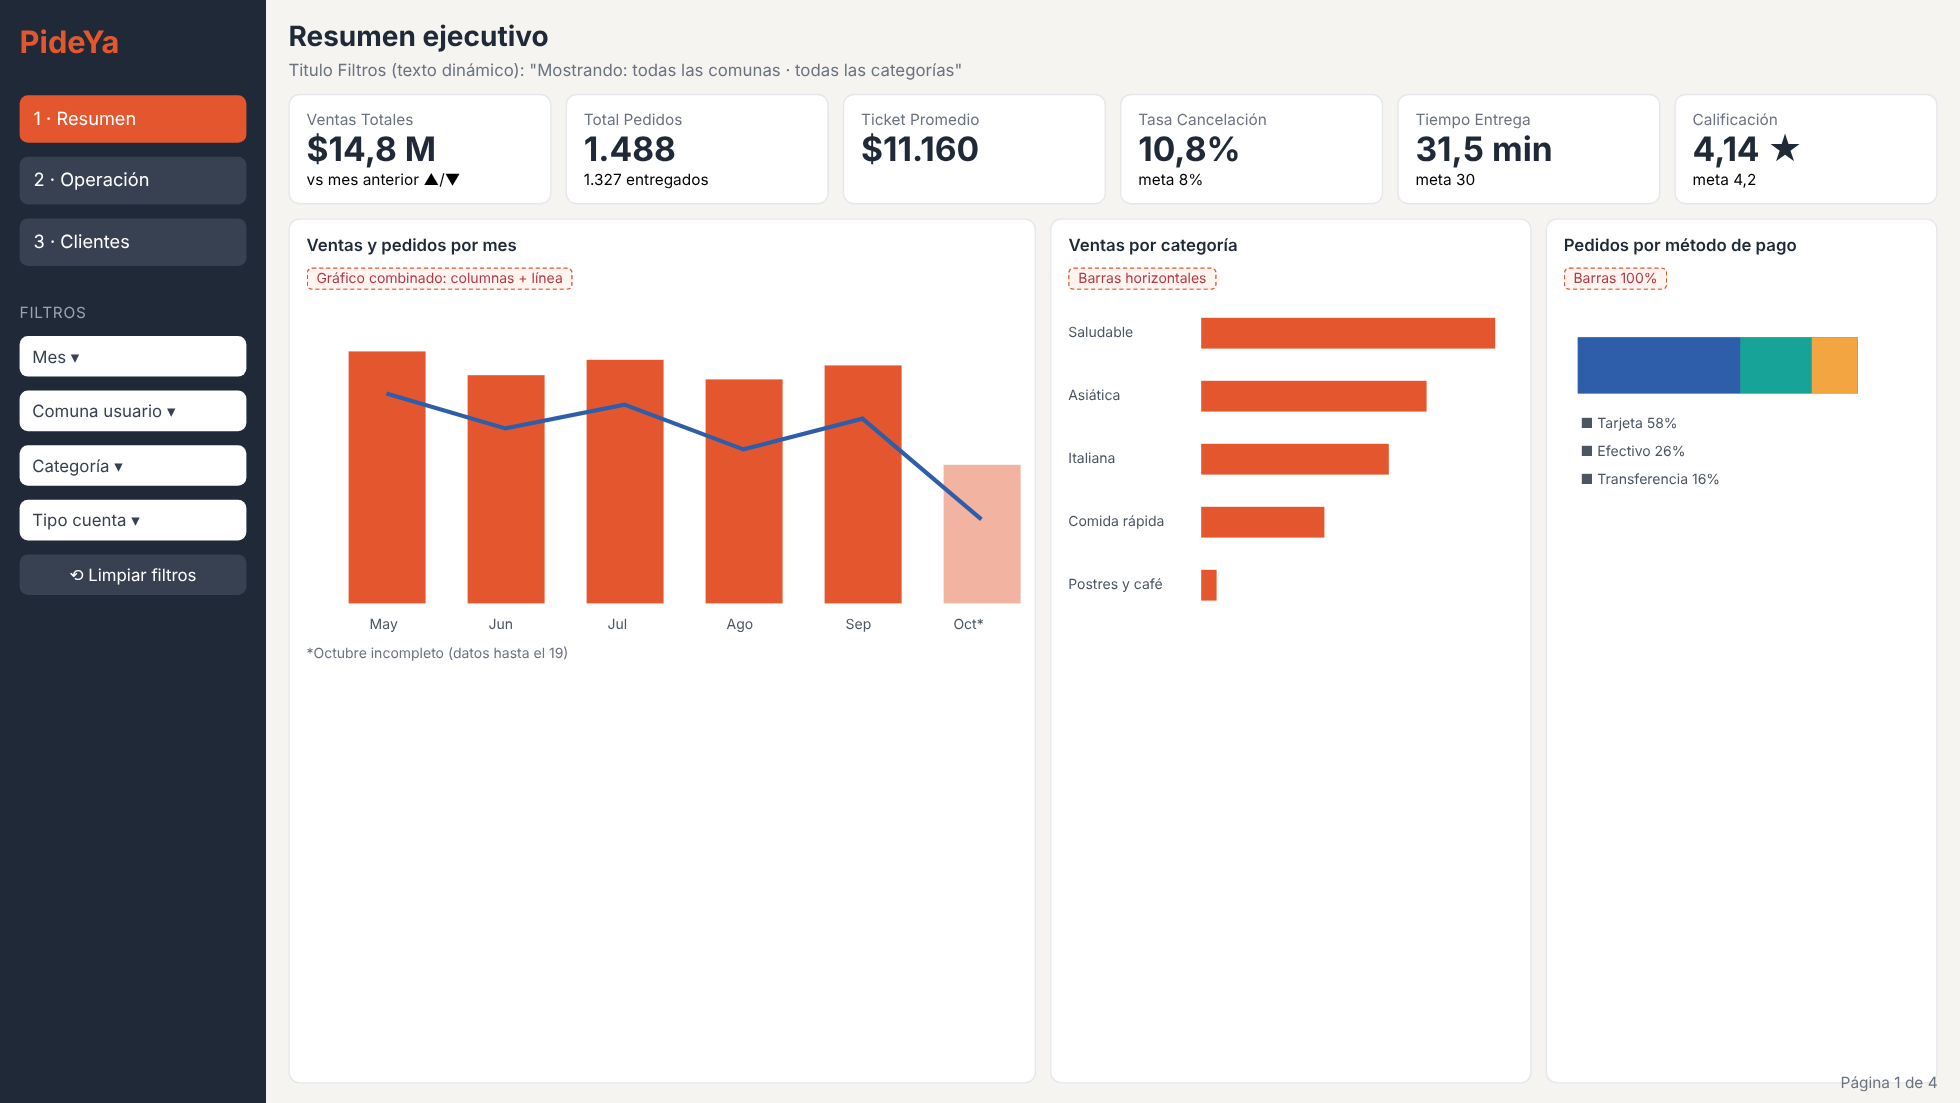

This screenshot's page, from the dashboard's own definition file:
{"tool":"powerbi","page":{"name":"Resumen","canvas":[1920,1080],"ordinal":0},"visuals":[{"type":"shape","box":[0,0,245.1,1079.6],"z":0},{"type":"cardVisual","fields":{"Data":["_Medidas.Ventas Totales"]},"box":[250.9,125.5,255,155],"z":1000},{"type":"cardVisual","fields":{"Data":["_Medidas.KPI Pedidos"]},"box":[530.5,125.5,255,155],"z":2000},{"type":"cardVisual","fields":{"Data":["_Medidas.Ticket Promedio"]},"box":[810,125.5,255,155],"z":3000},{"type":"cardVisual","fields":{"Data":["_Medidas.Tasa Cancelacion"]},"box":[1089.6,125.5,255,155],"z":4000},{"type":"cardVisual","fields":{"Data":["_Medidas.Tiempo Promedio Entrega"]},"box":[1369.1,125.5,255,156],"z":5000},{"type":"cardVisual","fields":{"Data":["_Medidas.Calificacion Promedio"]},"box":[1648.6,125.5,255,155],"z":6000},{"type":"lineClusteredColumnComboChart","title":"Ventas y pedidos por mes","fields":{"Category":["Calendario.Mes Año"],"Y":["_Medidas.Ventas Totales"],"Y2":["_Medidas.Total Pedidos"]},"box":[250.9,288.9,688.6,771.8],"z":7000},{"type":"clusteredBarChart","title":"Ventas por categoría","fields":{"Category":["Restaurantes.categoria"],"Y":["_Medidas.Ventas Totales"]},"box":[958.5,288.9,501.9,771.8],"z":8000},{"type":"donutChart","title":"Pedidos por método de pago","fields":{"Series":["Pedidos.metodo_pago"],"Y":["_Medidas.Total Pedidos"]},"box":[1479.4,288.9,424.6,771.8],"z":9000},{"type":"slicer","fields":{"Values":["Calendario.Mes Año"]},"box":[11.7,515,220,70],"z":10000},{"type":"slicer","fields":{"Values":["Usuarios.comuna"]},"box":[11.7,610.8,220,70],"z":11000},{"type":"slicer","fields":{"Values":["Restaurantes.categoria"]},"box":[11.7,706.6,220,70],"z":12000},{"type":"slicer","fields":{"Values":["Usuarios.tipo_cuenta"]},"box":[11.7,802.4,220,70],"z":13000},{"type":"actionButton","box":[20.4,917.7,200,50],"z":14000},{"type":"textbox","box":[250.9,0,1653,62.7],"z":15000},{"type":"cardVisual","fields":{"Data":["_Medidas.Titulo Filtros"]},"box":[250.9,80.2,1653,33.6],"z":16000},{"type":"textbox","box":[16,13.1,213,49.6],"z":17000},{"type":"pageNavigator","box":[11.7,125.5,221.8,179.5],"z":18000},{"type":"textbox","box":[11.7,459.6,220.3,55.4],"z":19000}]}

Visuals, with their boxes on the page's 1920x1080 design canvas (x1, y1, x2, y2). These are canvas units, not pixel positions in the 1960x1103 screenshot, which may show the page scaled, cropped or inside an application window:
shape: left=0, top=0, right=245, bottom=1080
cardVisual - _Medidas.Ventas Totales: left=251, top=126, right=506, bottom=280
cardVisual - _Medidas.KPI Pedidos: left=530, top=126, right=786, bottom=280
cardVisual - _Medidas.Ticket Promedio: left=810, top=126, right=1065, bottom=280
cardVisual - _Medidas.Tasa Cancelacion: left=1090, top=126, right=1345, bottom=280
cardVisual - _Medidas.Tiempo Promedio Entrega: left=1369, top=126, right=1624, bottom=282
cardVisual - _Medidas.Calificacion Promedio: left=1649, top=126, right=1904, bottom=280
"Ventas y pedidos por mes" lineClusteredColumnComboChart: left=251, top=289, right=940, bottom=1061
"Ventas por categoría" clusteredBarChart: left=958, top=289, right=1460, bottom=1061
"Pedidos por método de pago" donutChart: left=1479, top=289, right=1904, bottom=1061
slicer - Calendario.Mes Año: left=12, top=515, right=232, bottom=585
slicer - Usuarios.comuna: left=12, top=611, right=232, bottom=681
slicer - Restaurantes.categoria: left=12, top=707, right=232, bottom=777
slicer - Usuarios.tipo_cuenta: left=12, top=802, right=232, bottom=872
actionButton: left=20, top=918, right=220, bottom=968
textbox: left=251, top=0, right=1904, bottom=63
cardVisual - _Medidas.Titulo Filtros: left=251, top=80, right=1904, bottom=114
textbox: left=16, top=13, right=229, bottom=63
pageNavigator: left=12, top=126, right=234, bottom=305
textbox: left=12, top=460, right=232, bottom=515
